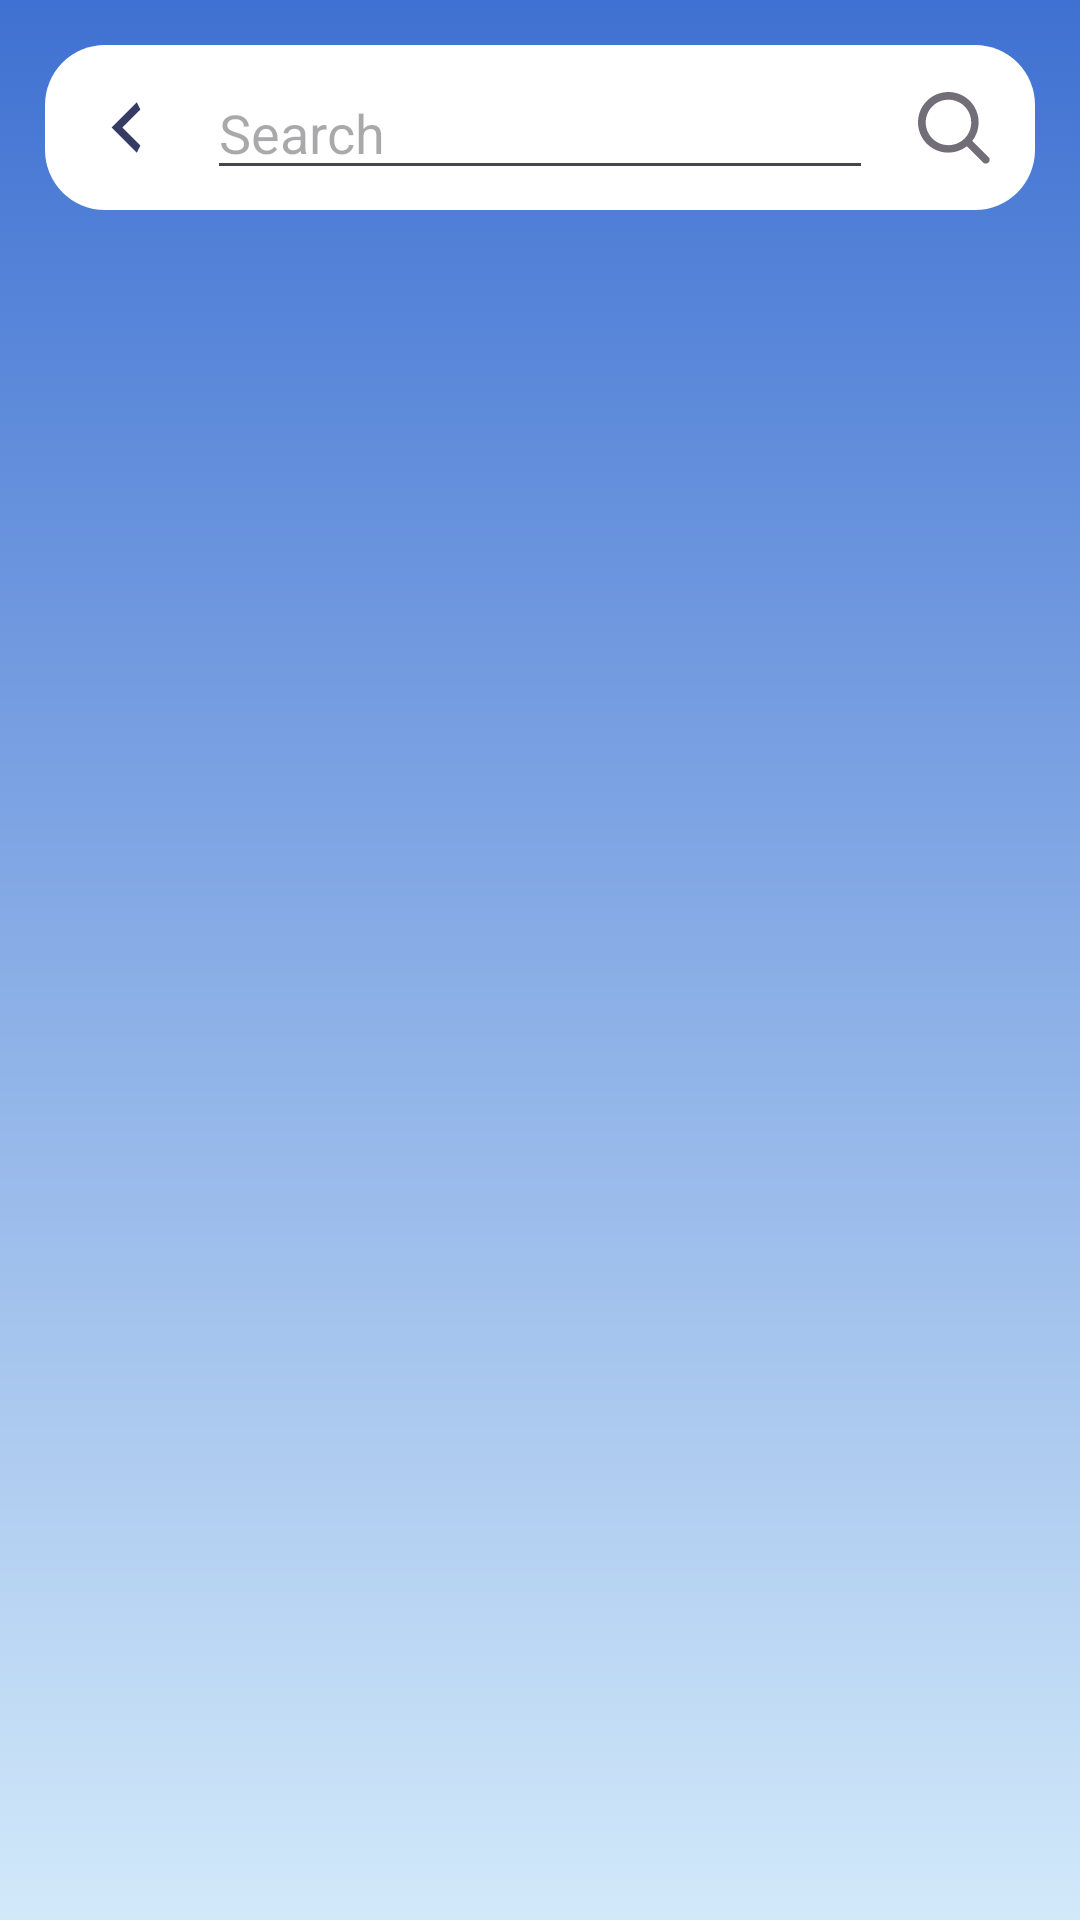

Point at icon controls on the screen. Image size 1080w x 1920h, points as (x=x, y=y).
arrowleft: (x=126, y=127)
